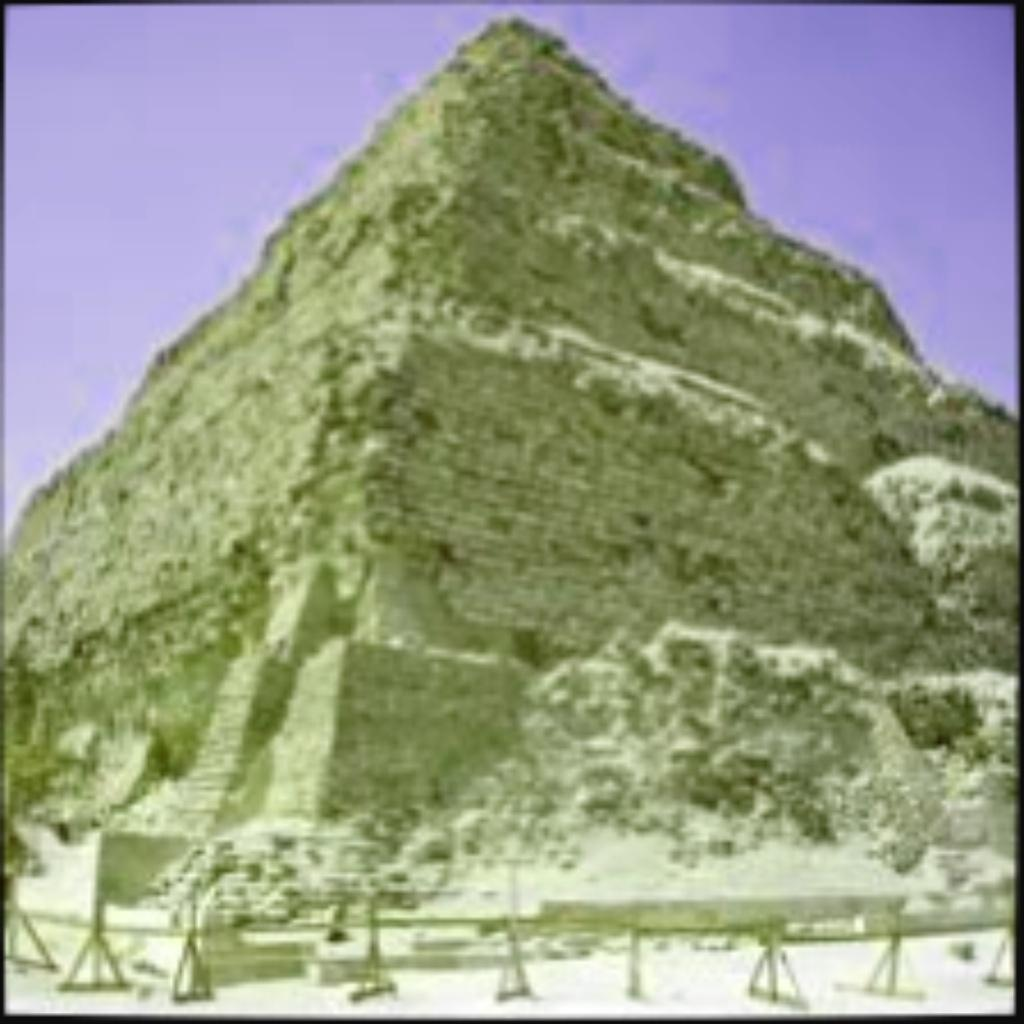Pyramid of Djoser: (0, 4, 1015, 988)
